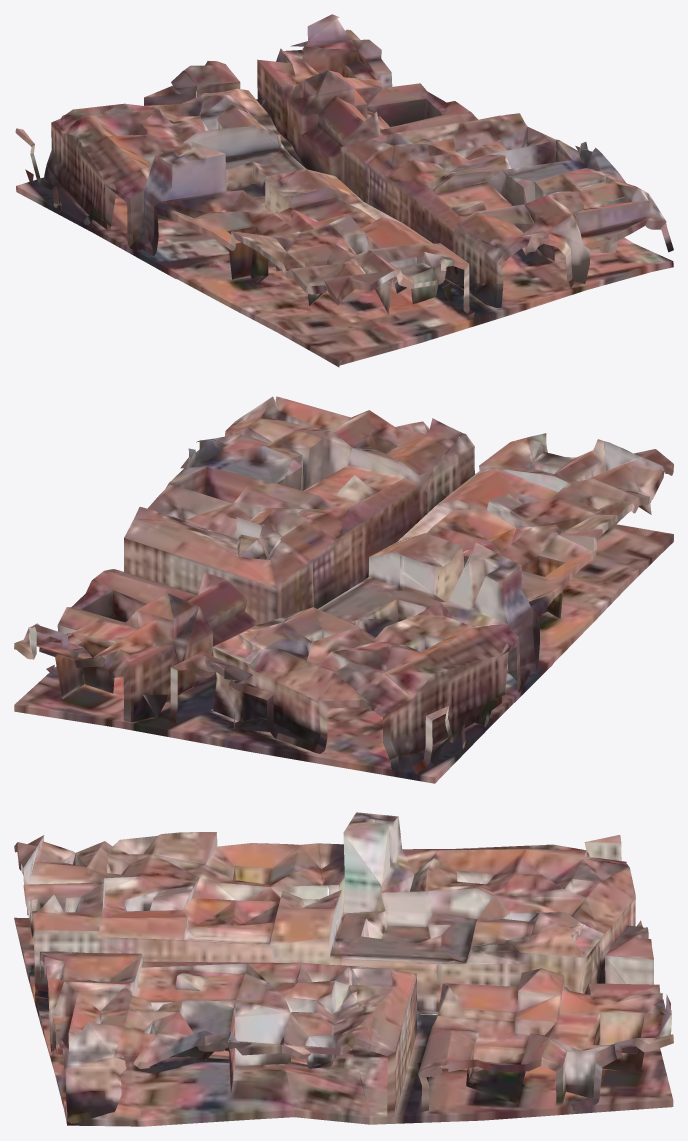
3 views of the same model, one above another, from view 1: azimuth 30°, elevation 25°; view 2: azimuth 150°, elevation 25°; view 3: azimuth 270°, elevation 25° (orthographic). The views are drawn at different scales.
Parts seen in each view (by area): view 1: Mesh_0; view 2: Mesh_0; view 3: Mesh_0.
Part boxes in pixels (x1,y1,x2,y2): Mesh_0: (15, 14, 673, 367); Mesh_0: (14, 396, 673, 783); Mesh_0: (14, 812, 673, 1126).
Bounding box in the file's own units: 134 × 36.15 × 165.
1 material, 1 textured.
